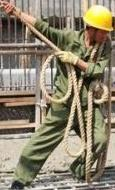boots: (10, 180, 33, 189), (1, 1, 1, 1)
gloves: (2, 0, 42, 21), (53, 50, 79, 66)
hard-hat: (83, 4, 113, 31)
ppe-suit: (10, 14, 113, 186)
